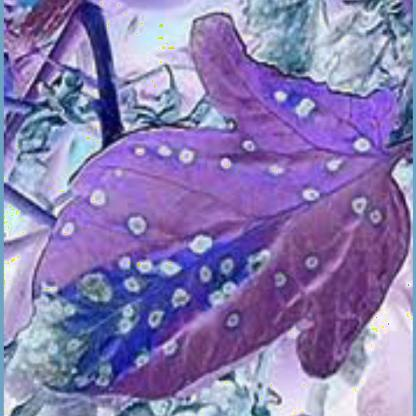Tomato Septoria leaf spot: (15, 12, 411, 406)
